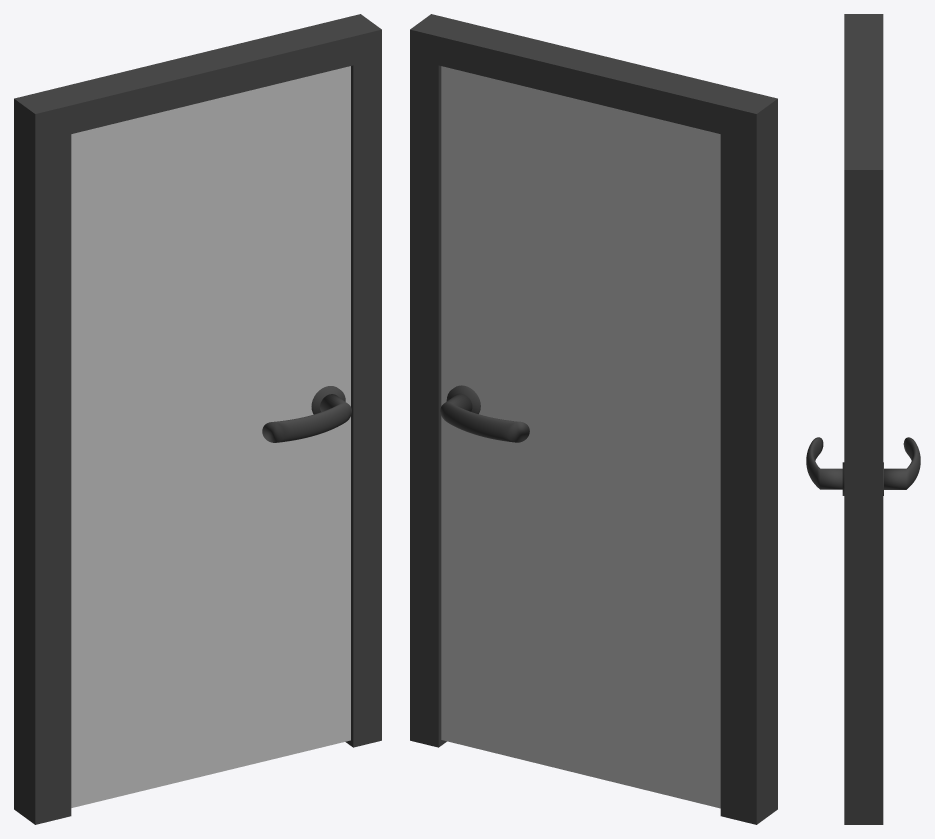
Rendered from OfficeDoor.fbx.
The picture shows the model from 3 angles, left to right: view 1: azimuth 30°, elevation 25°; view 2: azimuth 150°, elevation 25°; view 3: azimuth 270°, elevation 25°; orthographic projection. The views are drawn at different scales.
Visible parts, largest first — view 1: Cylindre.001, Cube.001; view 2: Cylindre.001, Cube.001; view 3: Cube.001, Cylindre.001.
Boxes of the visible parts, x1,y1,x2,y2 form: Cylindre.001: (71,66,351,807); Cube.001: (14,14,381,824); Cylindre.001: (440,66,720,808); Cube.001: (410,14,777,824); Cube.001: (844,14,883,824); Cylindre.001: (806,437,920,495).
Size of the model in its own units: 206 by 403 by 63.91.
